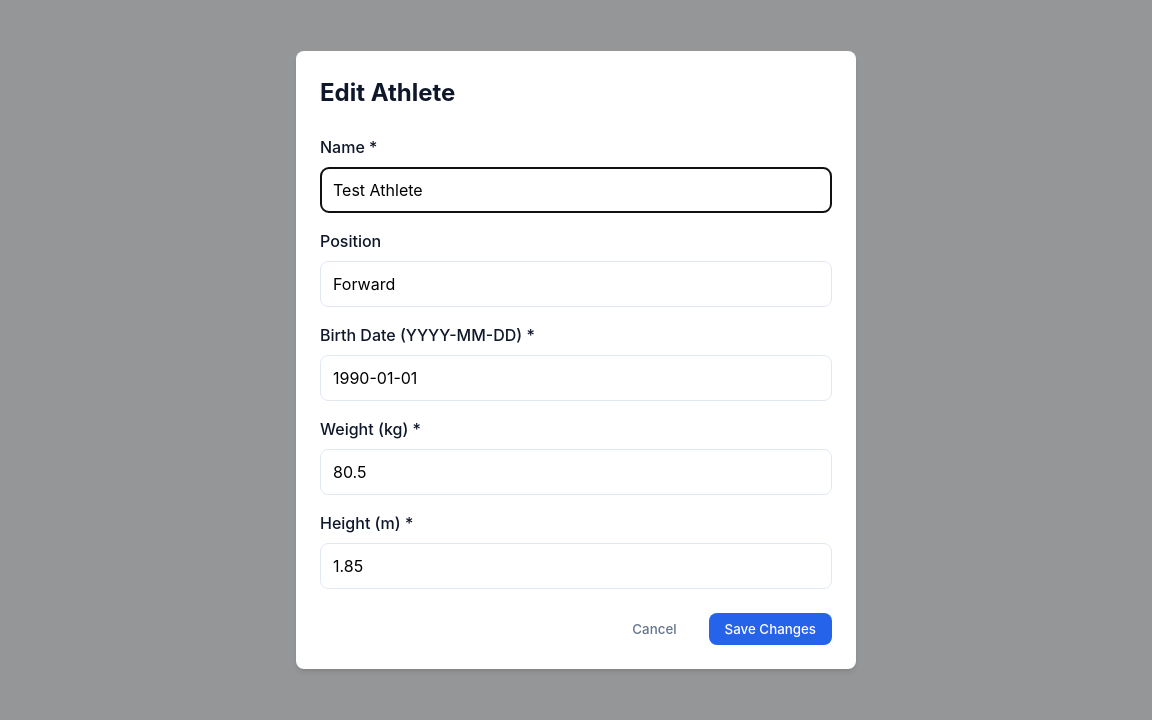
Test case: AthleteEditModal › handles 422 API errors
Click the button "Save Changes": (770, 629) x1=709 y1=613 x2=832 y2=645
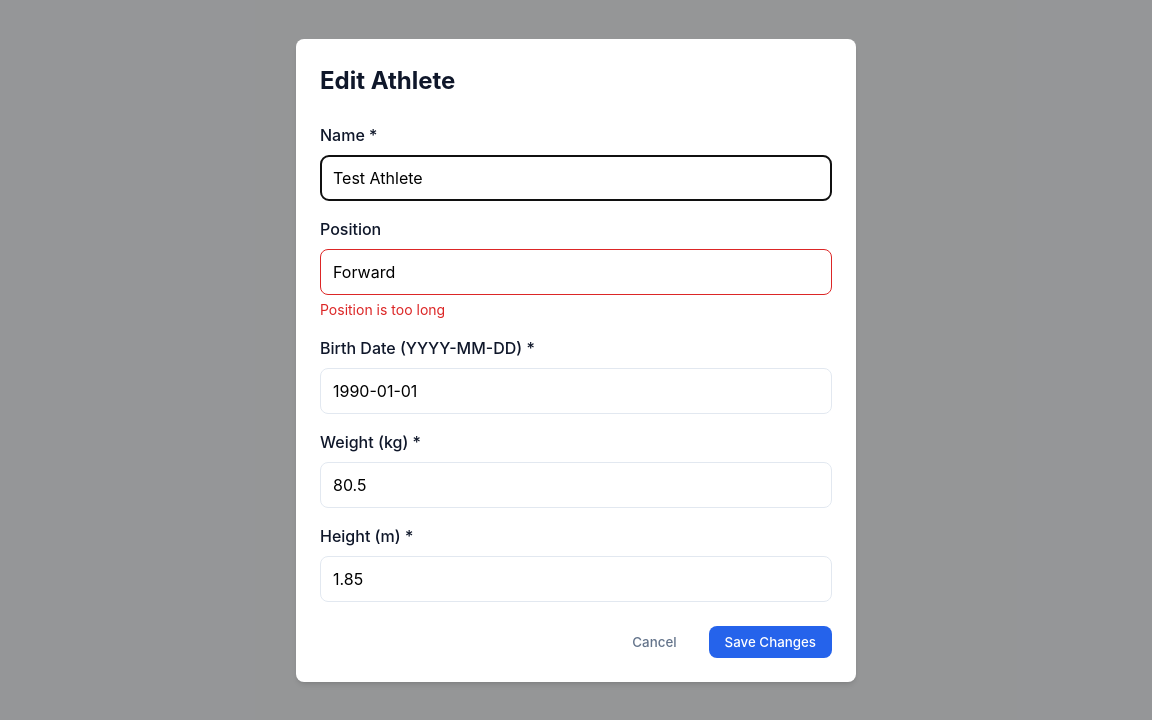
Result: the text "Position is too long" is shown at x1=320 y1=300 x2=445 y2=318
